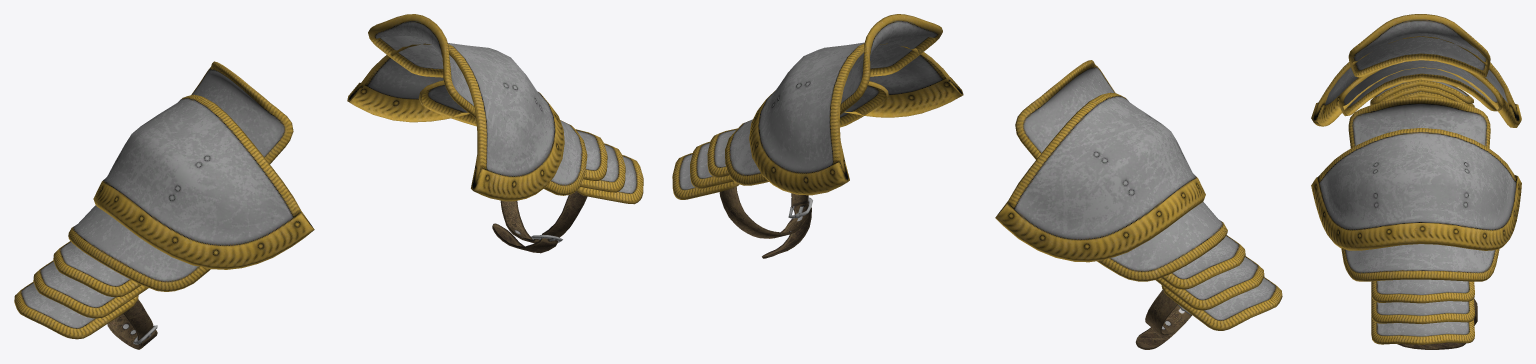
The model's file is swan_knight_pauldrons.fbx.
The picture shows the model from 3 angles, left to right: view 1: azimuth 30°, elevation 25°; view 2: azimuth 150°, elevation 25°; view 3: azimuth 270°, elevation 25°; orthographic projection. The views are drawn at different scales.
Parts seen in each view (by area): view 1: swan_knight_pauldrons; view 2: swan_knight_pauldrons; view 3: swan_knight_pauldrons.
Part boxes in pixels (x1=…): swan_knight_pauldrons: x1=14, y1=14, x2=643, y2=349; swan_knight_pauldrons: x1=672, y1=14, x2=1282, y2=349; swan_knight_pauldrons: x1=1311, y1=14, x2=1521, y2=349.
Bounding box in the file's own units: 0.8026 × 0.2832 × 0.3158.
1 material, 1 textured.
